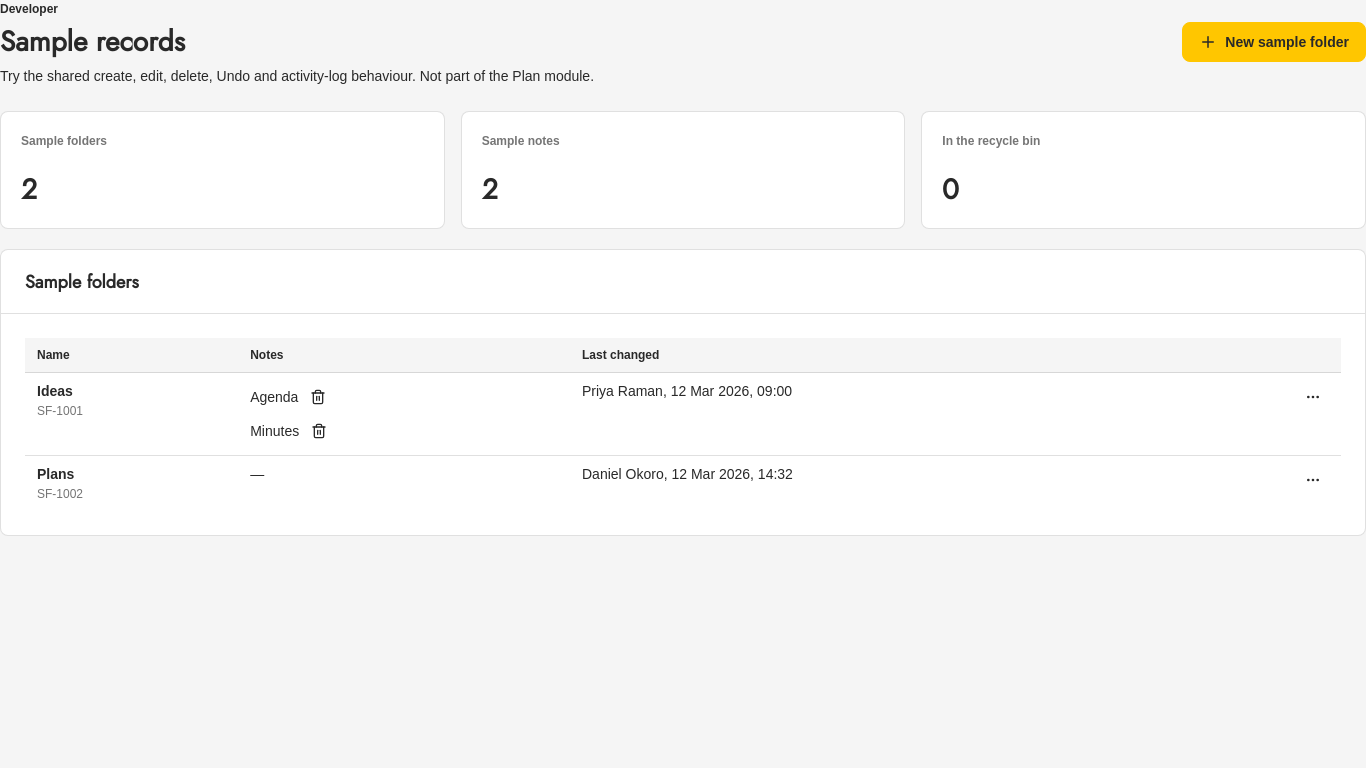
Scenario: SampleRecordsPage: create and edit › shows every problem at once, at the field and in the summary (FR-020, design system §6.4)
The width and height of the screenshot is (1366, 768).
Expected: the element "Sample folders" is shown, [0,249,1365,536]
Click the button named "Actions for Ideas" at [1313, 397], box [1297,381,1329,413]
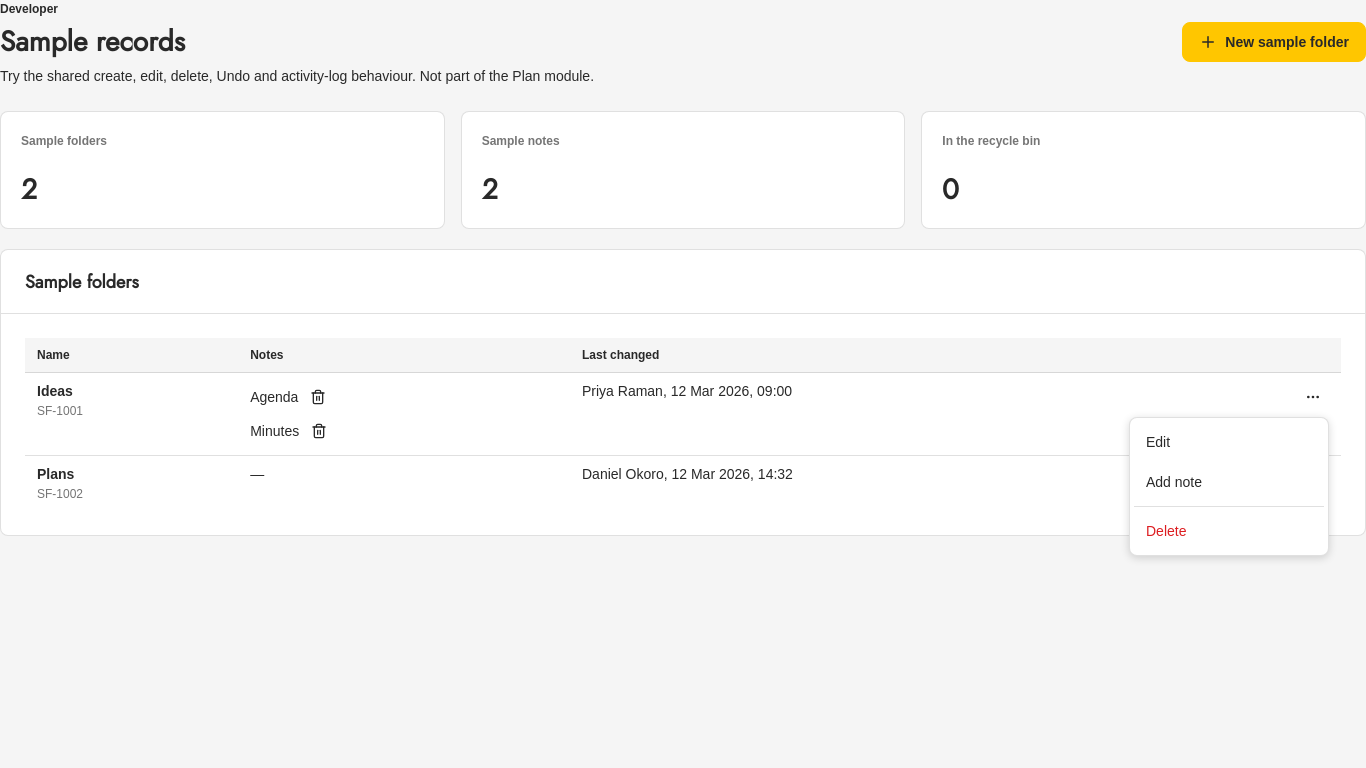
Click the menu item "Edit" at [1158, 442], box [1146,434,1170,450]
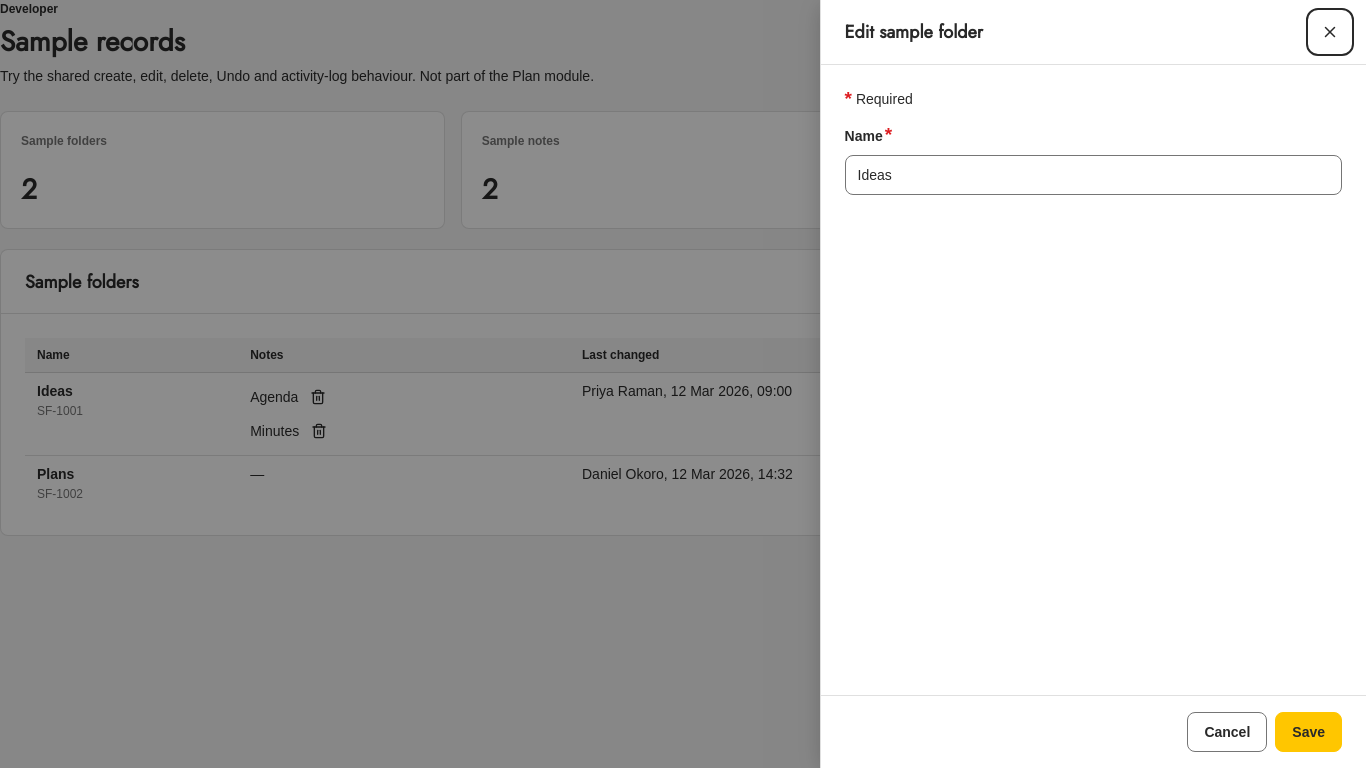
Clear the field labelled "Name" at [1093, 175], box [845,155,1342,195]
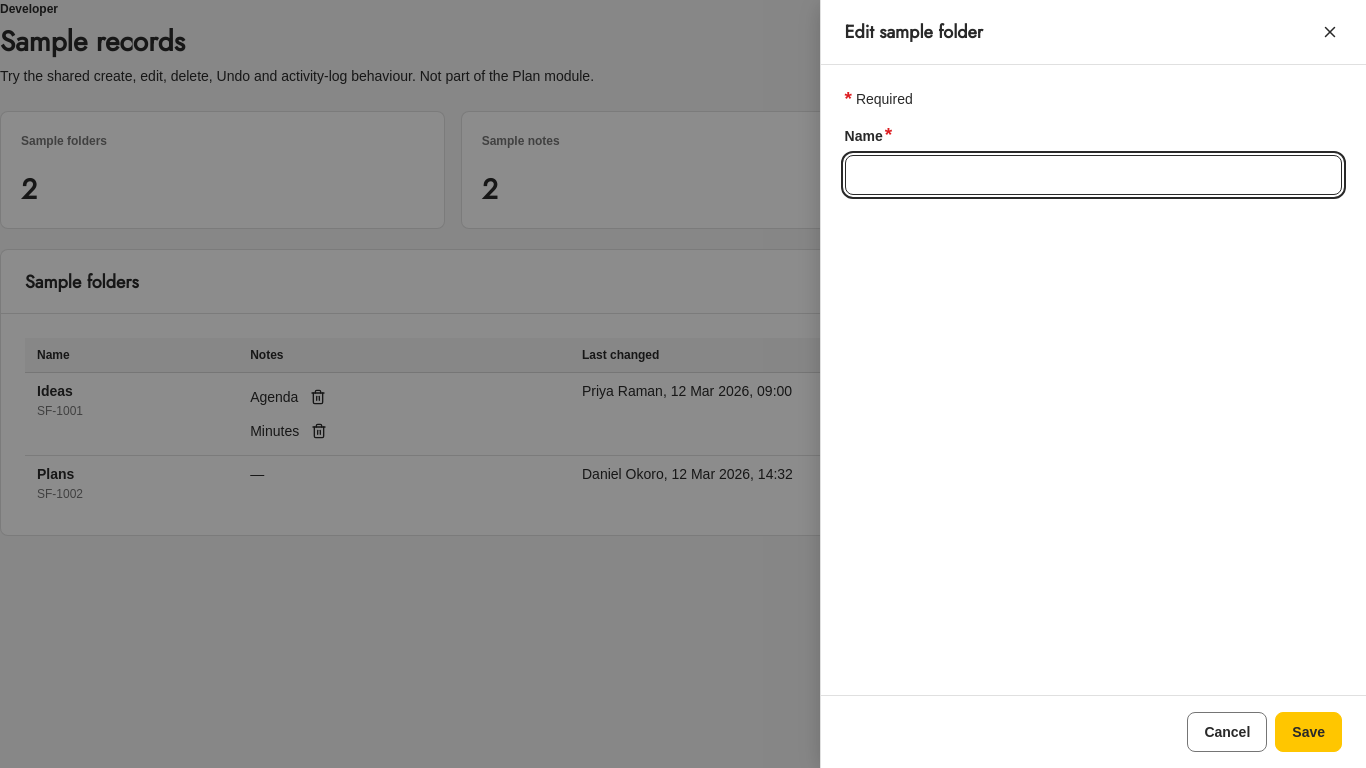
Click the button "Save" at [1309, 732], box [1275,712,1342,752]
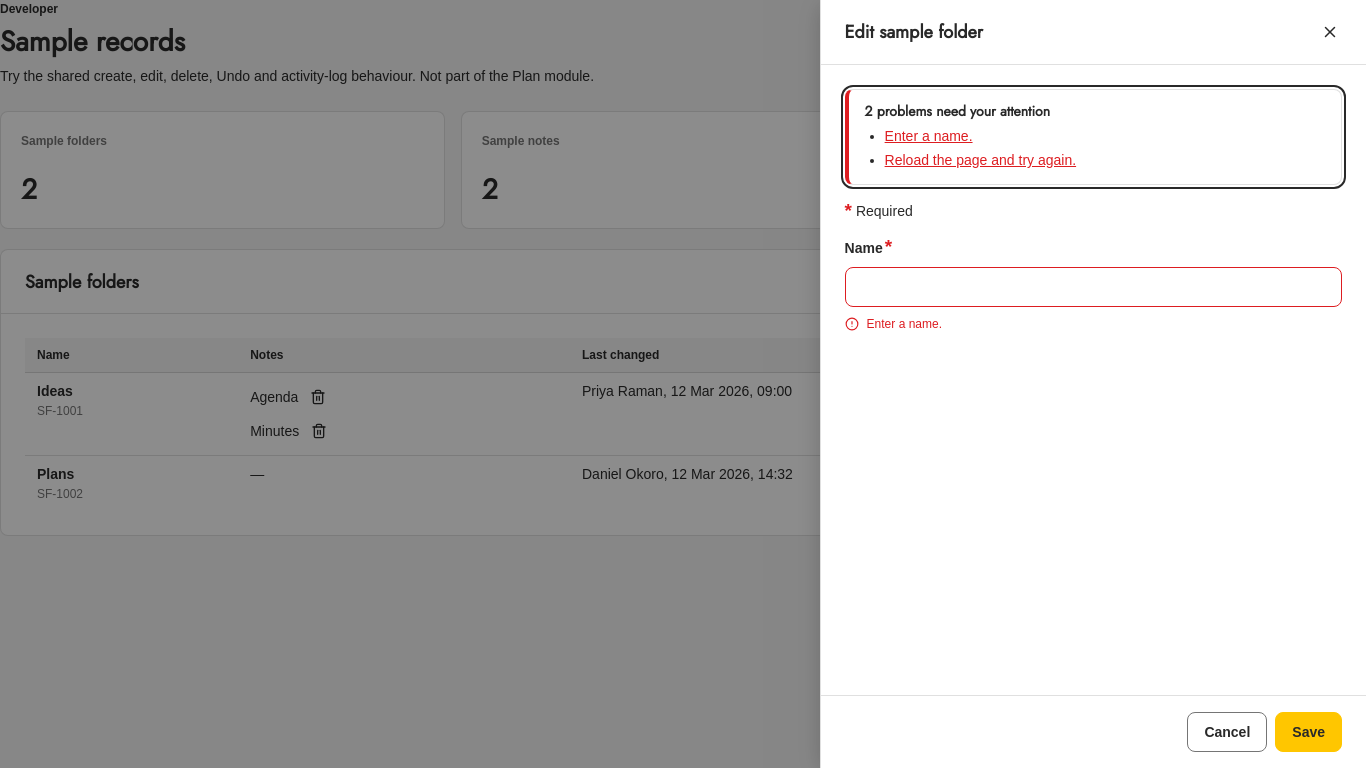
Result: the message shows "2 problems need your attention" at [865,101,1050,121]
Result: the message shows "Enter a name." at [885,124,972,148]
Result: the message shows "Reload the page and try again." at [885,148,1076,172]
